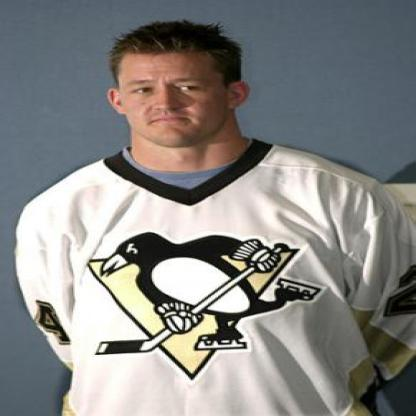face: (117, 25, 234, 148)
